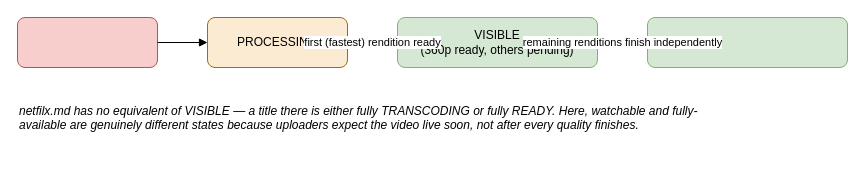
This 865x175 diagram has some shape labels left out. The centre of each missing label's shape, as x and y in pixels:
FULLY_AVAILABLE (all renditions ready): [747,42]
UPLOADING: [87,42]
